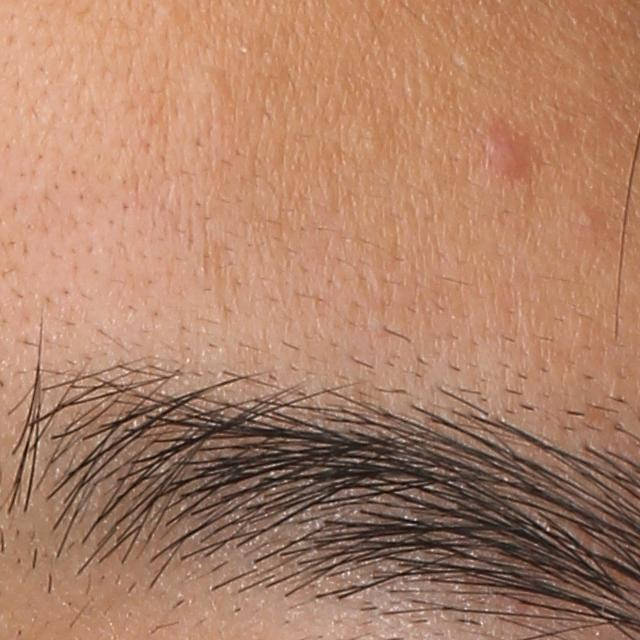comedo: (193, 66, 229, 98), (578, 208, 599, 232), (158, 4, 180, 25)
papule: (484, 127, 537, 186)
